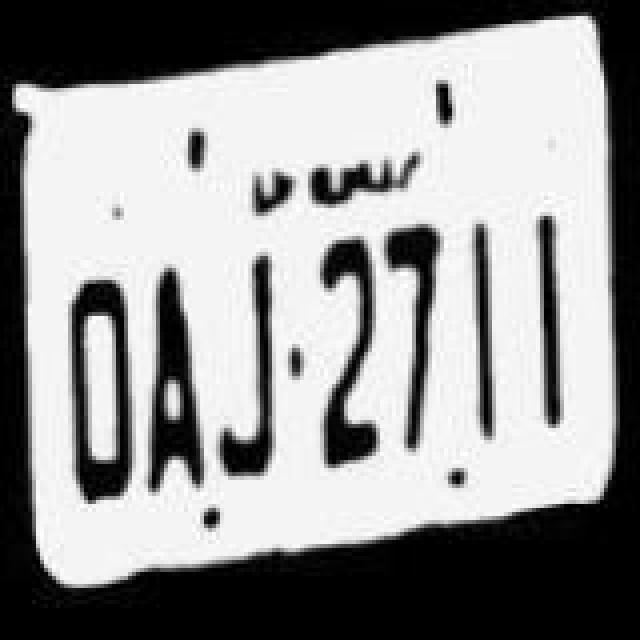1: (520, 214, 580, 466), (458, 226, 514, 486)
2: (312, 228, 388, 496)
7: (382, 224, 454, 480)
A: (134, 256, 210, 508)
J: (206, 242, 286, 510)
O: (62, 264, 138, 520)
